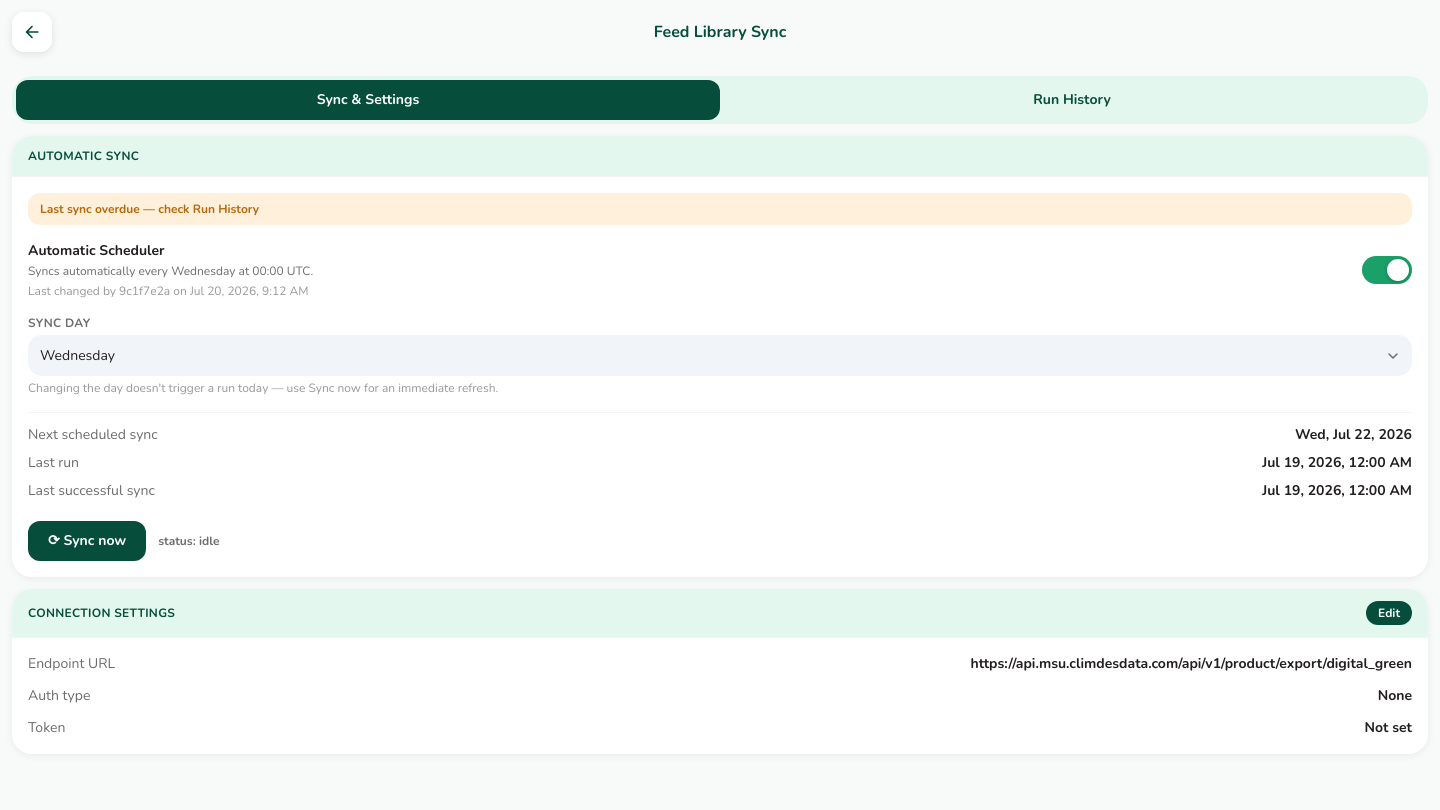
Admin Feed Library Sync — Sync & Settings tab › refuses to save a plain-http endpoint — the token would travel in cleartext (A-10)
The image size is (1440, 810).
Expected: the text "Automatic Scheduler" is shown, [28,241,165,260]
Click the button "Edit".
click(1389, 613)  # box [1366,601,1412,625]
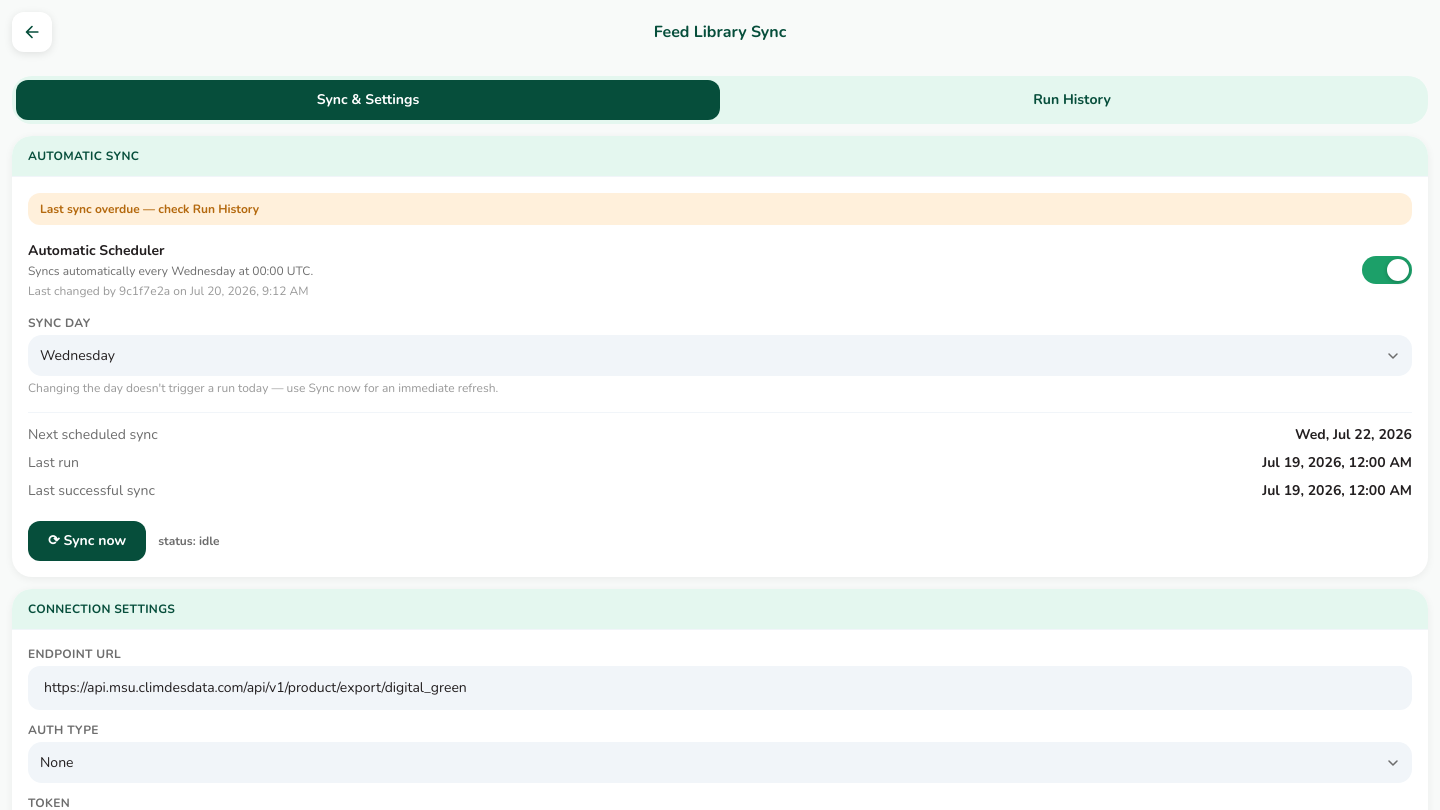
Replace the text in the field with placeholder "https://api.example.com/feed-library" with "http://api.example.com/feed-library" at (720, 688), box [28,666,1412,710]
(page scrolled)
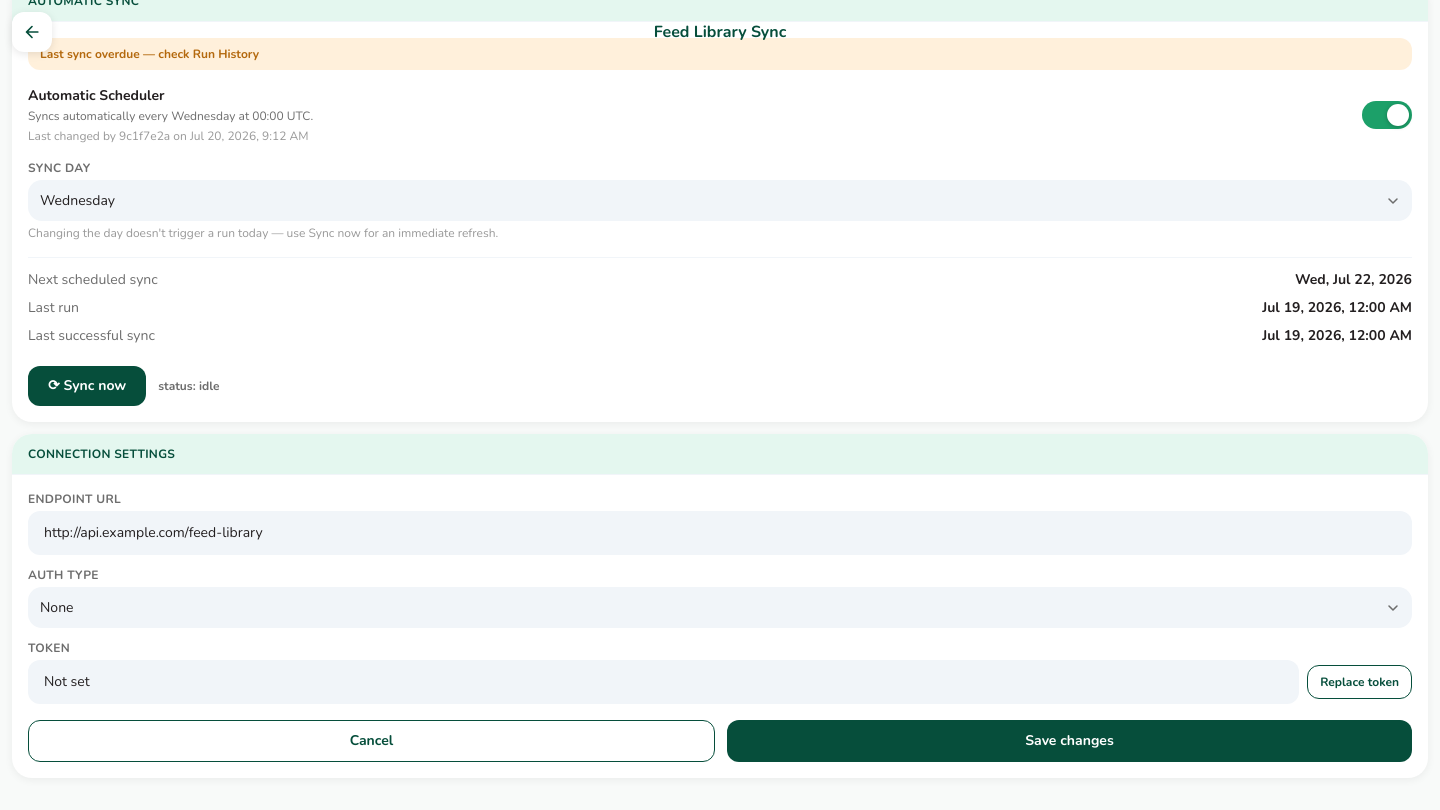
Click the button "Save changes".
click(1070, 741)  # box [727,720,1412,762]
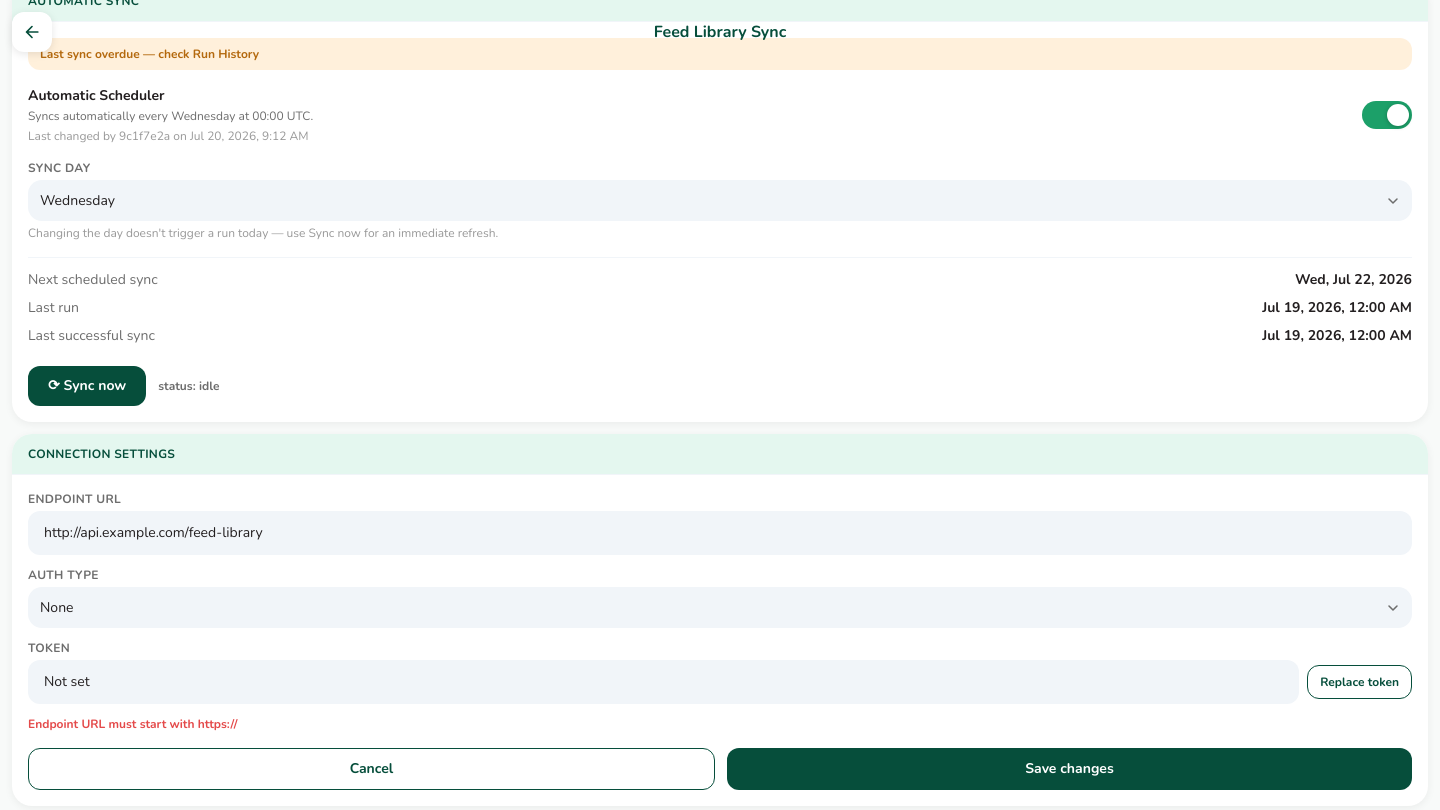
Now the text "Endpoint URL must start with https://" is shown, box [28,716,237,732]
